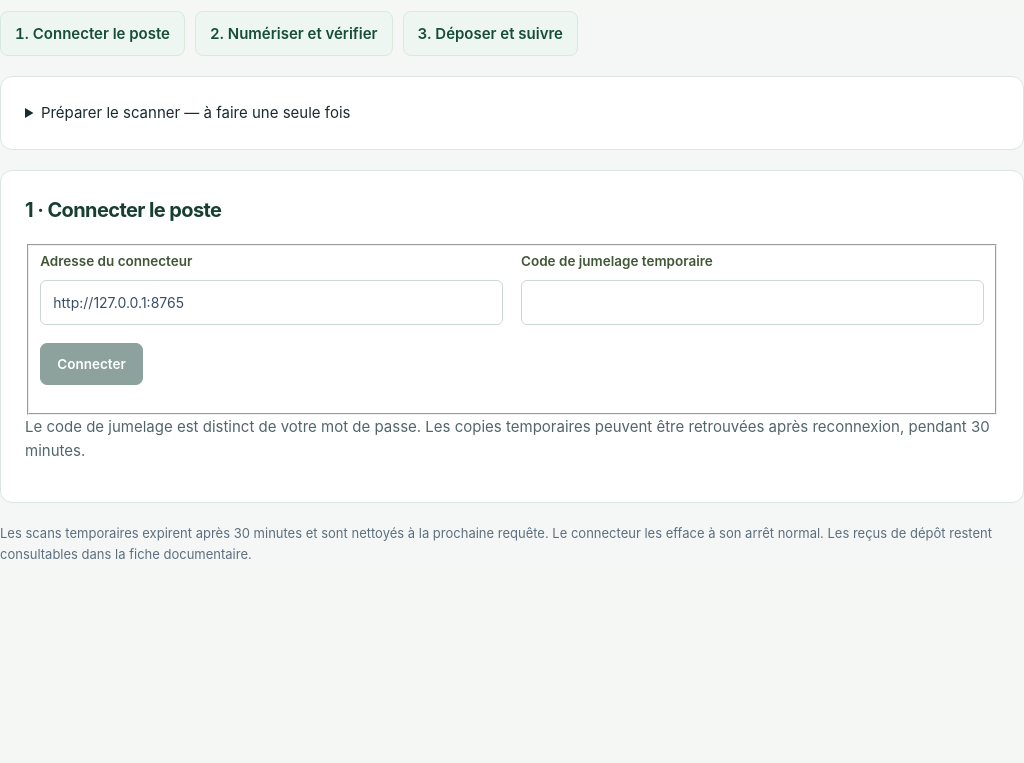
it: propose les seules capacités du profil et envoie le format et le mode couleur
Type "test-pairing-only" into the password field labelled "Code de jumelage temporaire" at (752, 303), box [521,280,984,325]
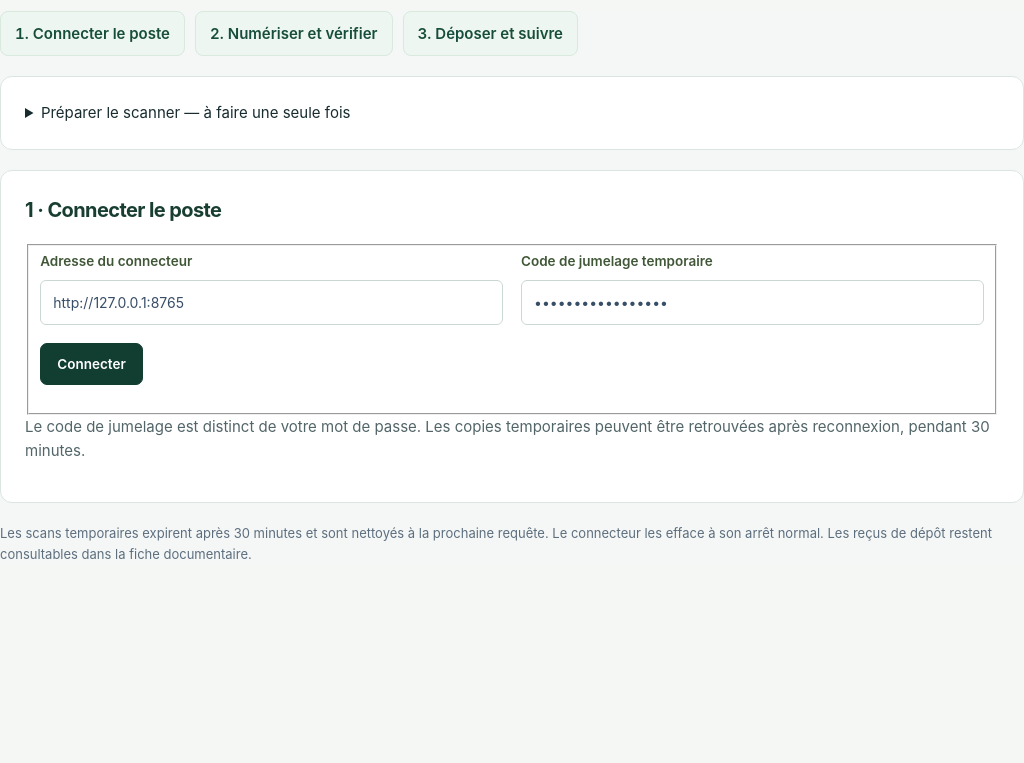
Click the button "Connecter" at (92, 364), box [40,343,143,385]
(page scrolled)
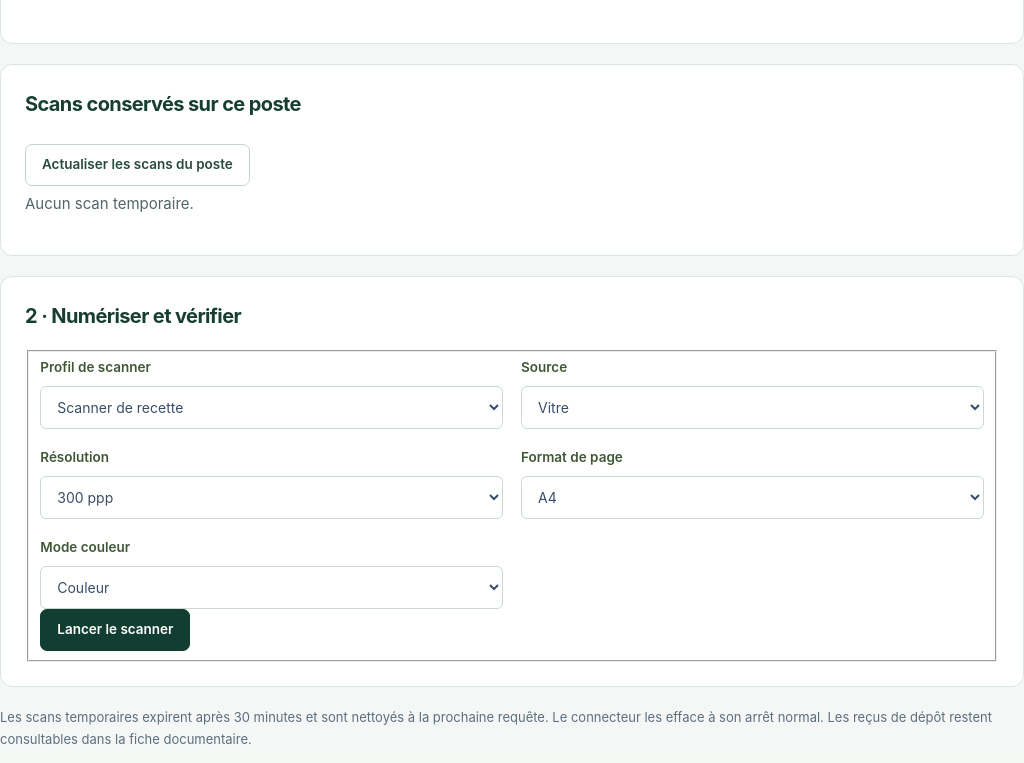
Select "600 ppp" in the dropdown labelled "Résolution" at (272, 497), box [40,476,503,519]
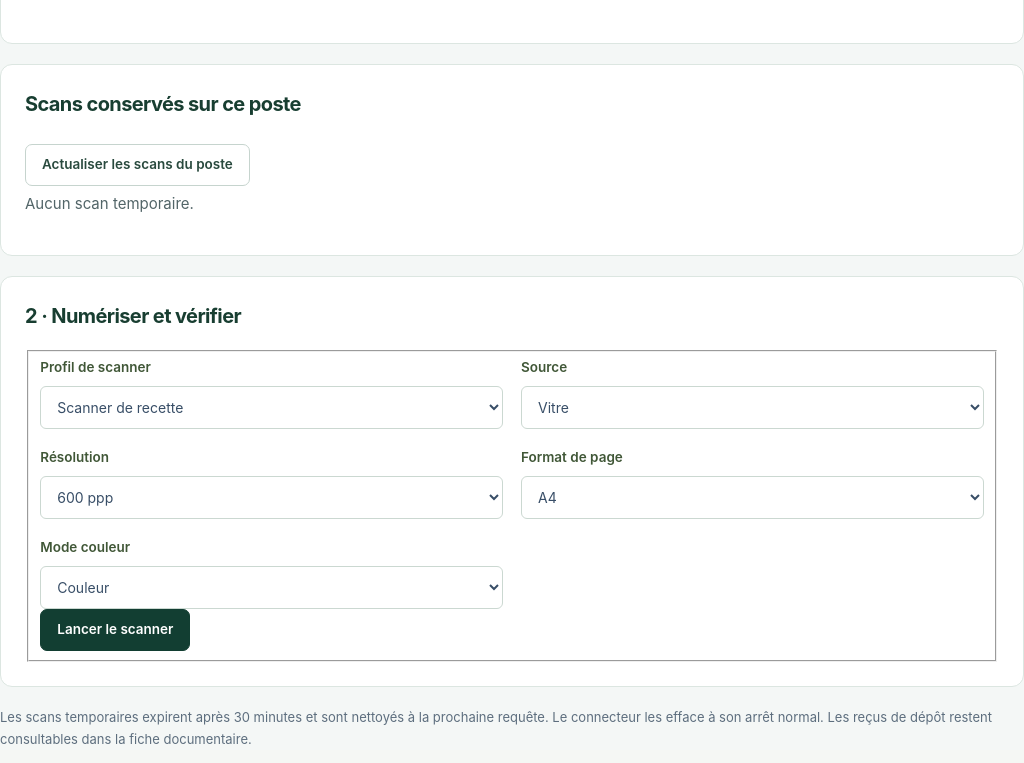
Select "A3" in the dropdown labelled "Format de page" at (752, 497), box [521,476,984,519]
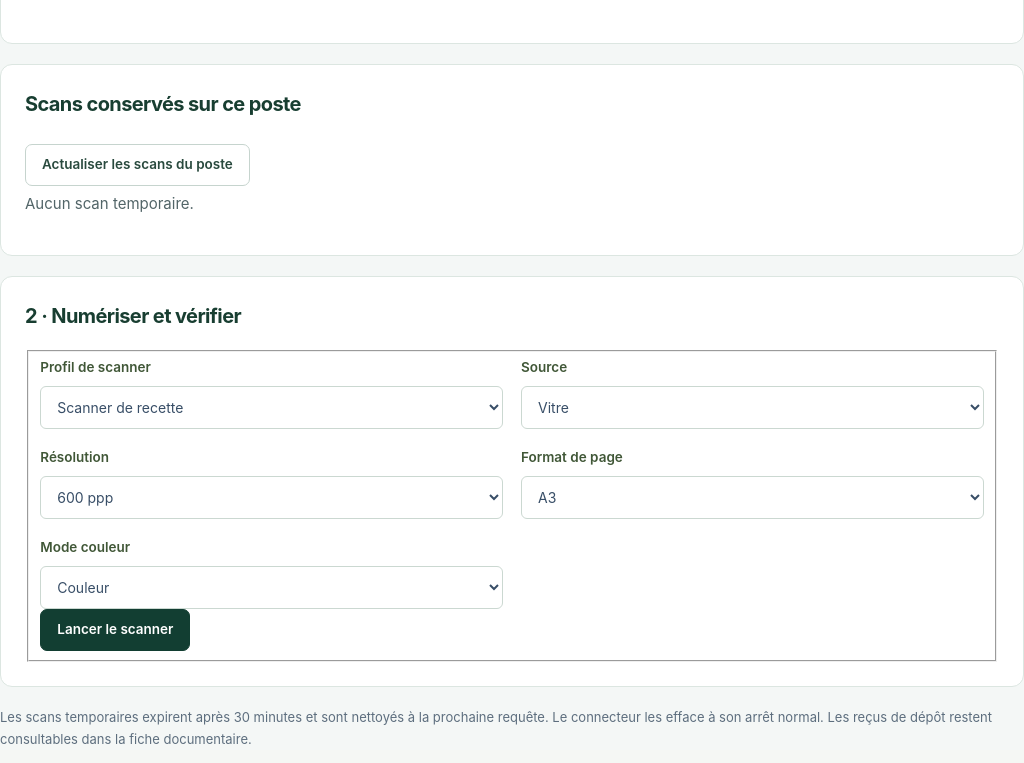
Select "Niveaux de gris" in the dropdown labelled "Mode couleur" at (272, 587), box [40,566,503,609]
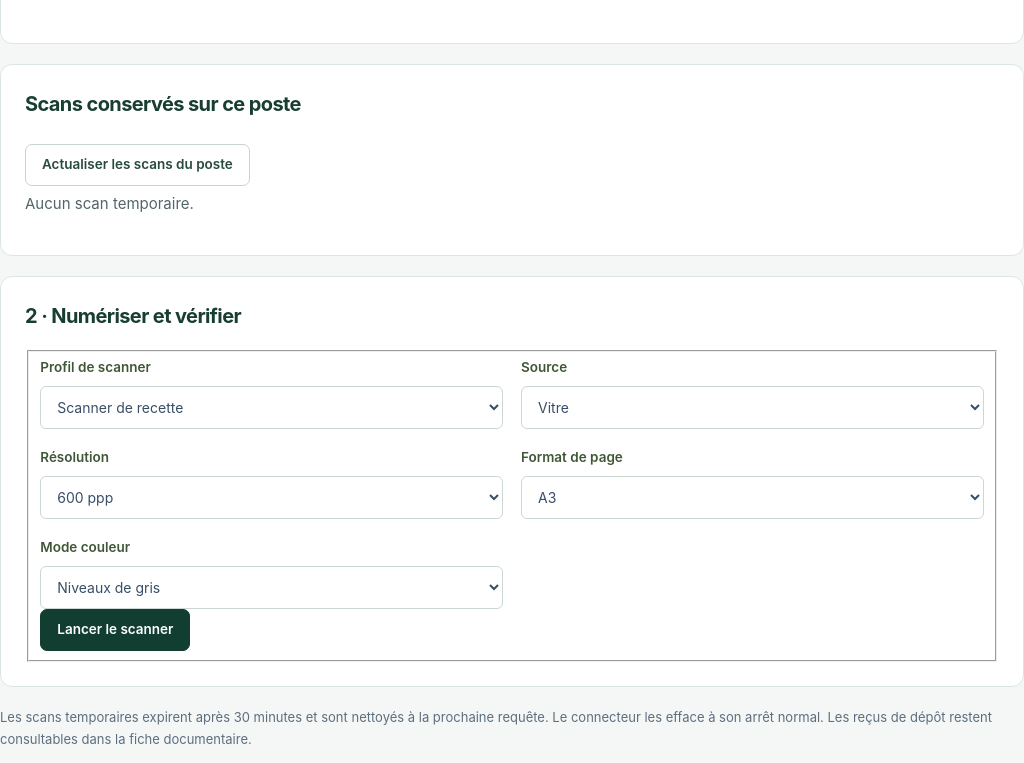
Click the button "Lancer le scanner" at (115, 630), box [40,609,190,651]
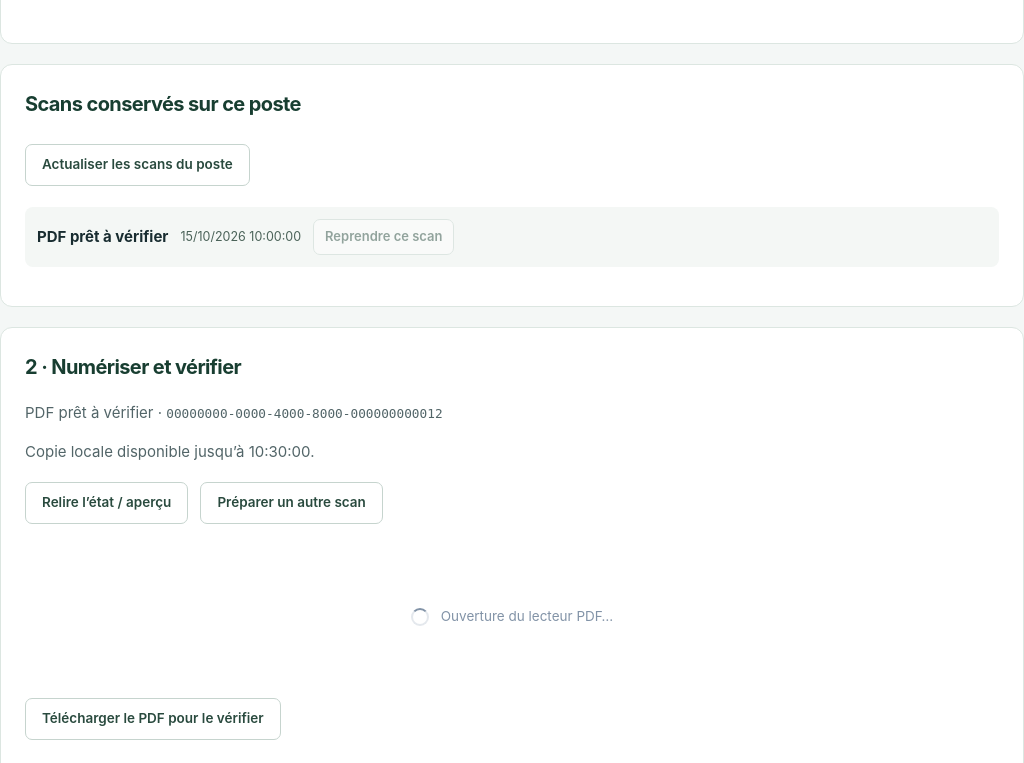
Check: the text labelled "Code de jumelage temporaire" is not shown
Check: the element titled "Aperçu du document numérisé" is shown, box [411,608,613,626]
